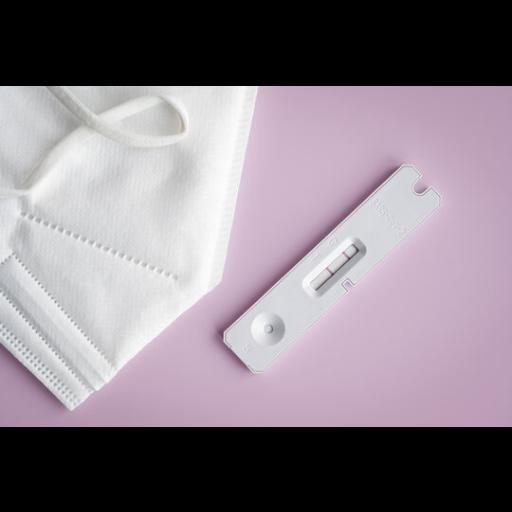Pos: (219, 162, 446, 374)
